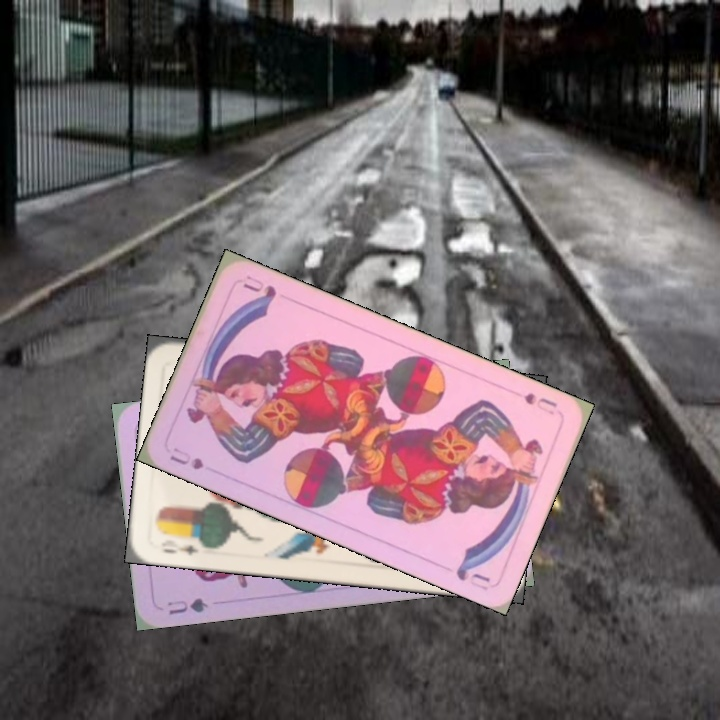EO: (159, 533, 210, 558)
GU: (164, 594, 211, 618)
SU: (519, 388, 560, 418), (165, 443, 207, 472)
